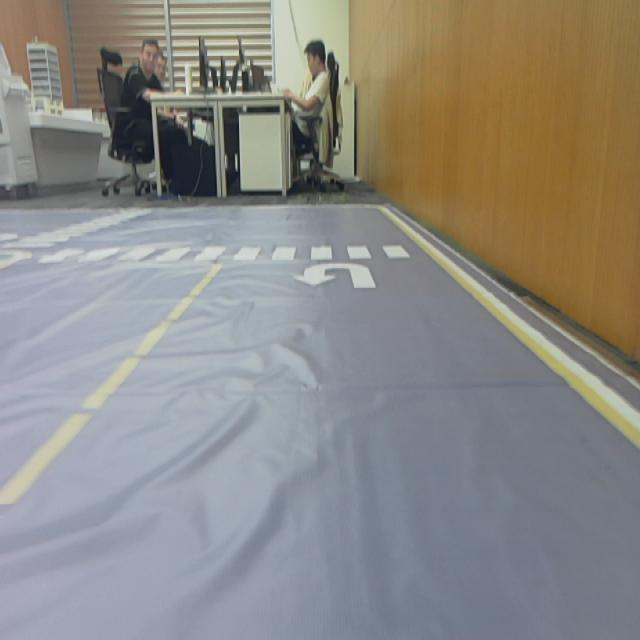left_lane: (0, 262, 224, 523)
right_lane: (379, 209, 640, 451)
